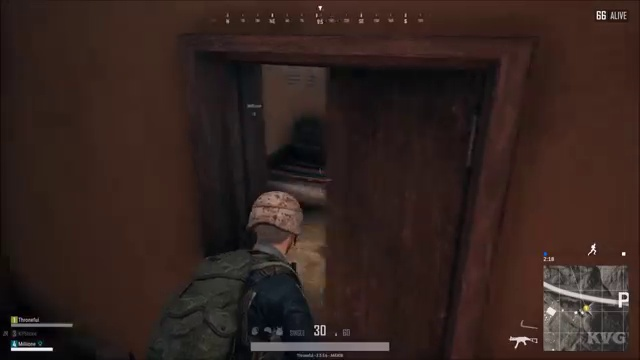Player: (136, 180, 393, 314)
